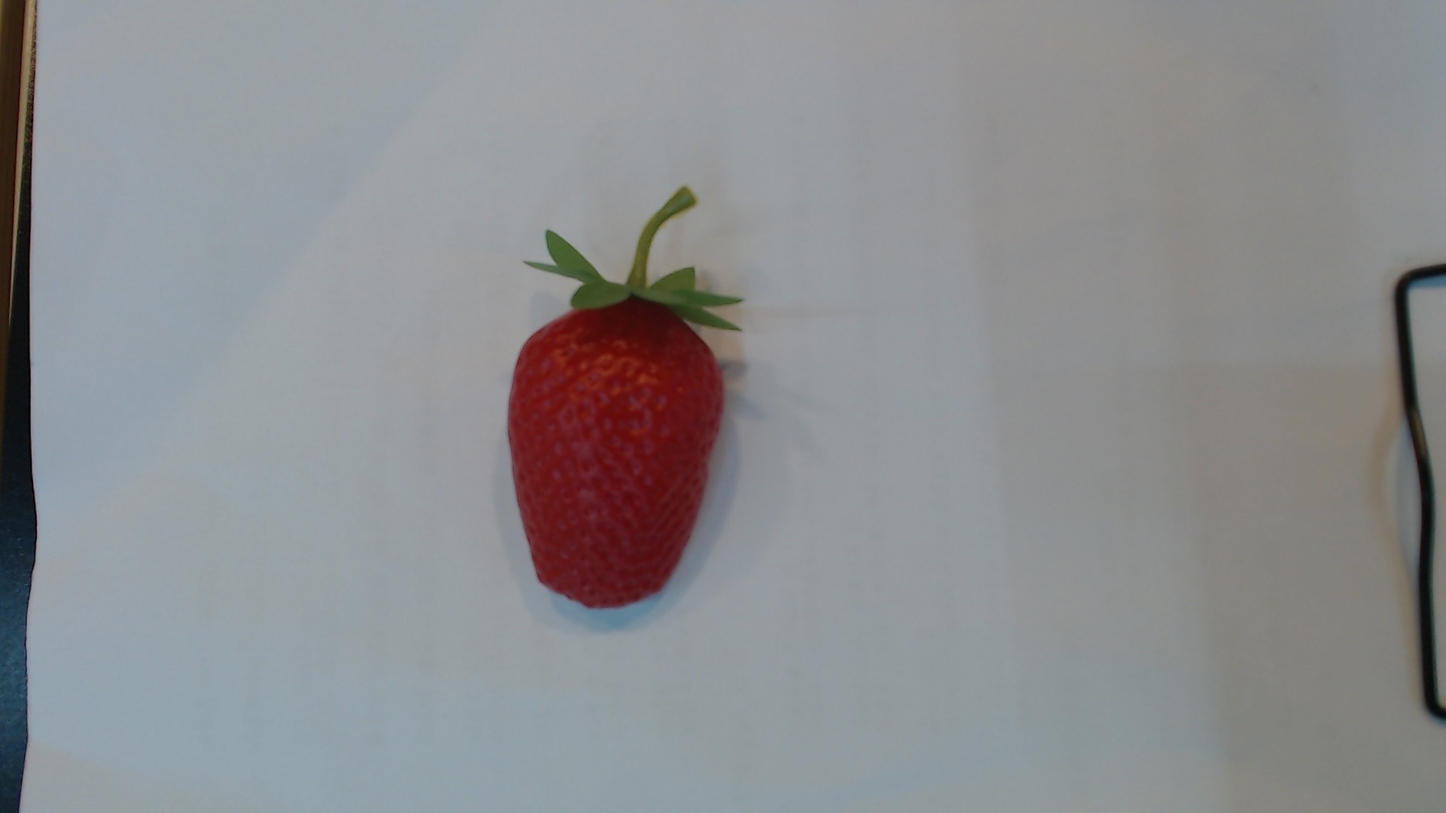strawberry: (505, 280, 738, 617)
